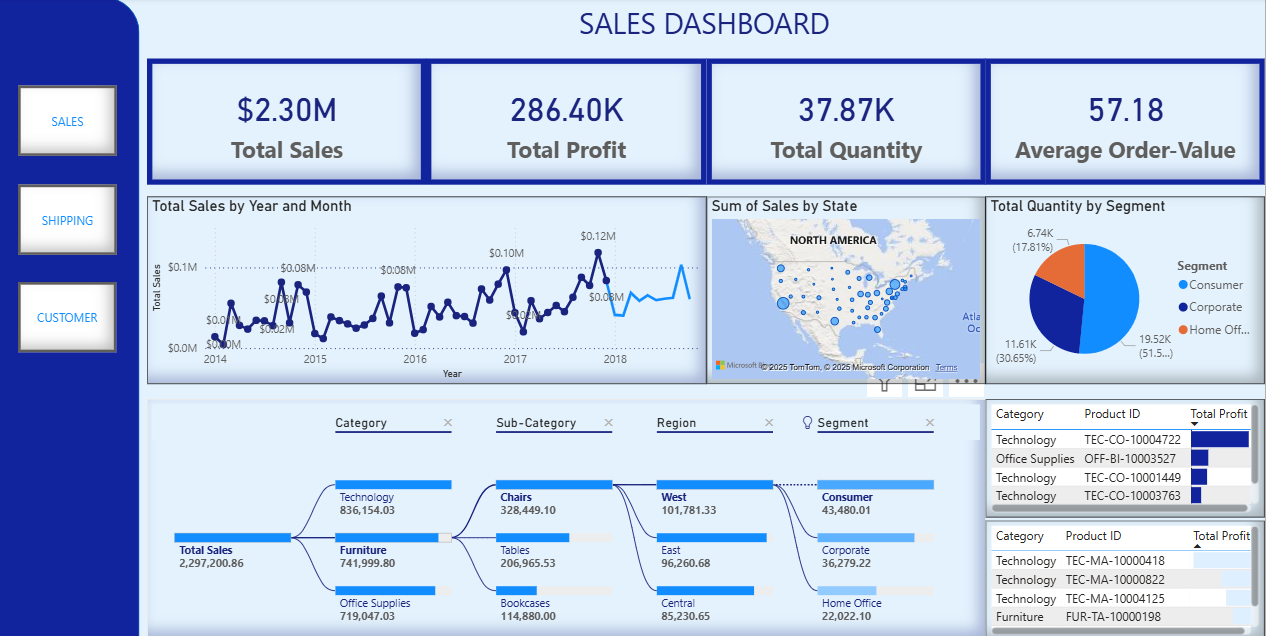

This screenshot's page, from the dashboard's own definition file:
{"tool":"powerbi","page":{"name":"Sales","canvas":[1420,720],"ordinal":0},"visuals":[{"type":"shape","box":[164.7,0,1254.8,55.9],"z":0},{"type":"card","fields":{"Values":["Sample - Superstore.Total Sales"]},"box":[168,68.9,312.4,141.1],"z":1000},{"type":"card","fields":{"Values":["Sample - Superstore.Total Profit"]},"box":[480.4,68.9,314.1,141.1],"z":2000},{"type":"card","fields":{"Values":["Sample - Superstore.Total Quantity"]},"box":[794.6,68.9,312.4,141.1],"z":3000},{"type":"card","fields":{"Values":["Sample - Superstore.Average Order-Value"]},"box":[1107,68.9,312.4,141.1],"z":4000},{"type":"lineChart","fields":{"Category":["Sample - Superstore.Order Date.Variation.Date Hierarchy.Year","Sample - Superstore.Order Date.Variation.Date Hierarchy.Month"],"Y":["Sample - Superstore.Total Sales"]},"box":[168,223.4,626.6,210],"z":5000},{"type":"decompositionTreeVisual","fields":{"ExplainBy":["Sample - Superstore.Category","Sample - Superstore.Sub-Category","Sample - Superstore.Region","Sample - Superstore.Segment"],"Analyze":["Sample - Superstore.Total Sales"]},"box":[168,450.2,939,267.1],"z":6000},{"type":"map","fields":{"Category":["Sample - Superstore.State"],"Size":["Sum(Sample - Superstore.Sales)"]},"box":[794.6,223.4,312.4,210],"z":7000},{"type":"pieChart","fields":{"Y":["Sample - Superstore.Total Quantity"],"Category":["Sample - Superstore.Segment"]},"box":[1107,223.4,312.4,210],"z":8000},{"type":"tableEx","fields":{"Values":["Sample - Superstore.Category","Sample - Superstore.Product ID","Sample - Superstore.Total Profit"]},"box":[1107,450.2,312.4,132.7],"z":9000},{"type":"tableEx","fields":{"Values":["Sample - Superstore.Category","Sample - Superstore.Product ID","Sample - Superstore.Total Profit"]},"box":[1107,586.3,312.4,134.4],"z":10000},{"type":"shape","box":[0,0,159.6,720.6],"z":11000},{"type":"actionButton","box":[23.5,210,110.9,79],"z":12000},{"type":"actionButton","box":[24.4,319.4,110.3,78.8],"z":13000},{"type":"actionButton","box":[23.5,99.1,110.9,79],"z":14000}]}

Visuals, with their boxes in screenshot pixels (x1, y1, x2, y2), scaled from the page's 1420x720 canvas onto the 1266x636 screenshot:
shape: crop(147, 0, 1265, 49)
card - Sample - Superstore.Total Sales: crop(150, 61, 428, 186)
card - Sample - Superstore.Total Profit: crop(428, 61, 708, 186)
card - Sample - Superstore.Total Quantity: crop(708, 61, 987, 186)
card - Sample - Superstore.Average Order-Value: crop(987, 61, 1265, 186)
lineChart - Sample - Superstore.Order Date.Variation.Date Hierarchy.Year x Sample - Superstore.Order Date.Variation.Date Hierarchy.Month: crop(150, 197, 708, 383)
decompositionTreeVisual - Sample - Superstore.Category x Sample - Superstore.Sub-Category: crop(150, 398, 987, 634)
map - Sample - Superstore.State x Sum(Sample - Superstore.Sales): crop(708, 197, 987, 383)
pieChart - Sample - Superstore.Total Quantity x Sample - Superstore.Segment: crop(987, 197, 1265, 383)
tableEx - Sample - Superstore.Category x Sample - Superstore.Product ID: crop(987, 398, 1265, 515)
tableEx - Sample - Superstore.Category x Sample - Superstore.Product ID: crop(987, 518, 1265, 635)
shape: crop(0, 0, 142, 635)
actionButton: crop(21, 186, 120, 255)
actionButton: crop(22, 282, 120, 352)
actionButton: crop(21, 88, 120, 157)
